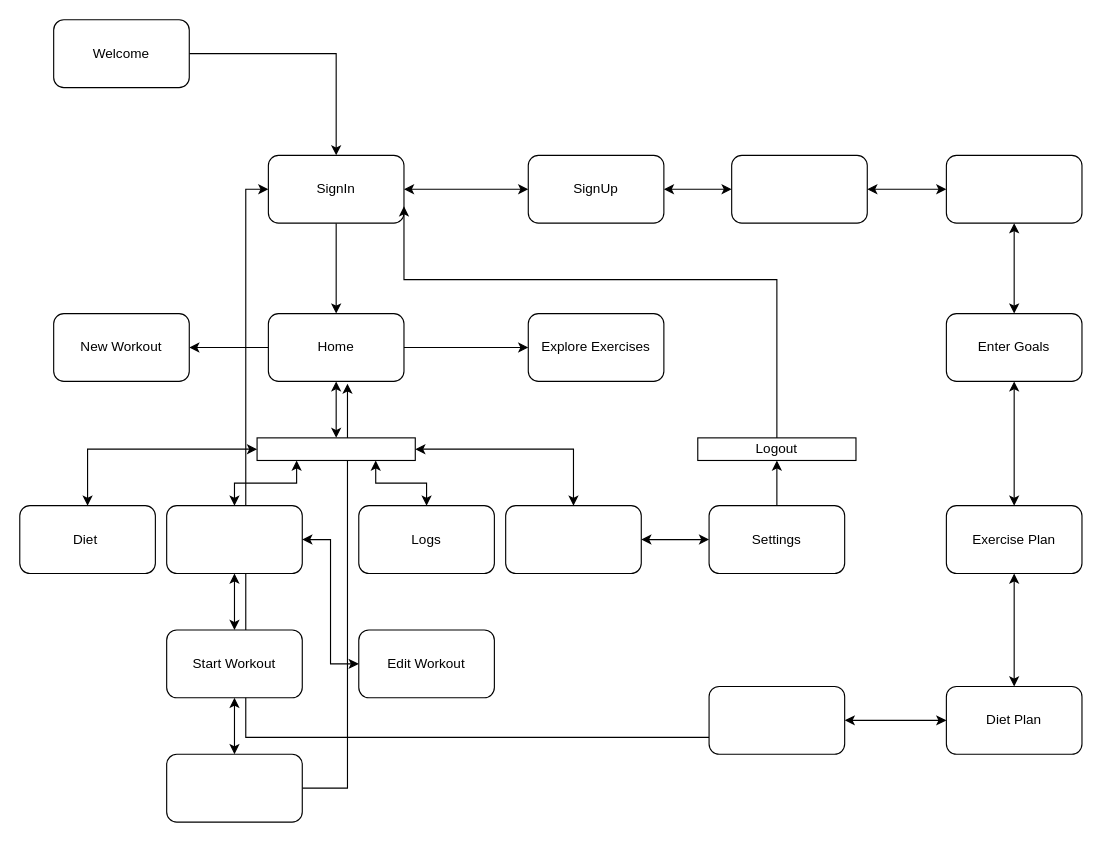
Image size: 1102x842. Some labels were removed from this diagram. Here are the shapes that lost their labels. From the top down, the centre of each, then its label:
[799,188]: Create User
[1013,188]: Enter Details
[335,448]: Navigation Bar
[234,539]: Workout
[573,539]: Profile
[776,719]: User created
[234,787]: Workout Summary
